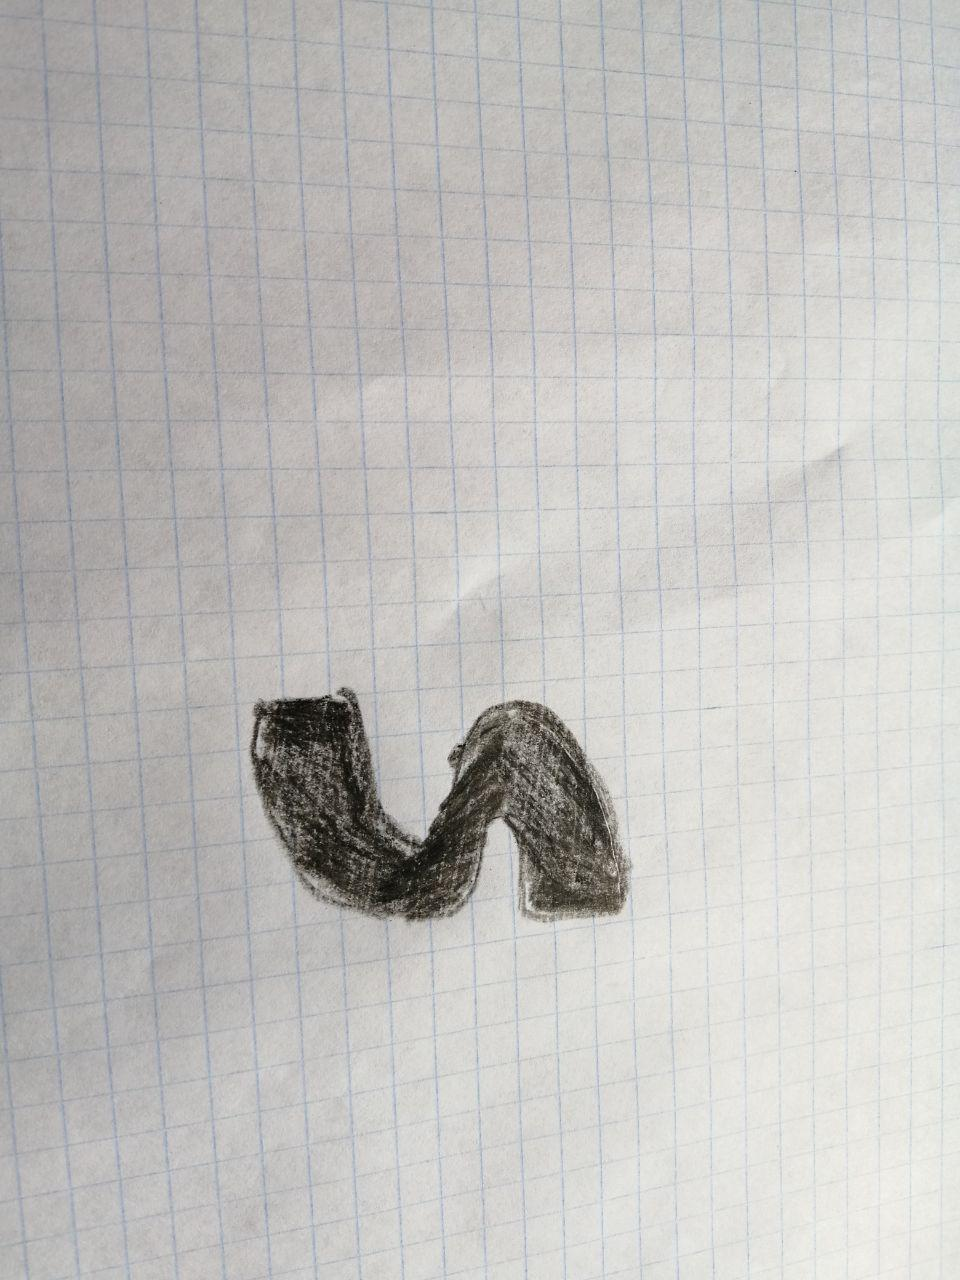s: (239, 690, 643, 927)
